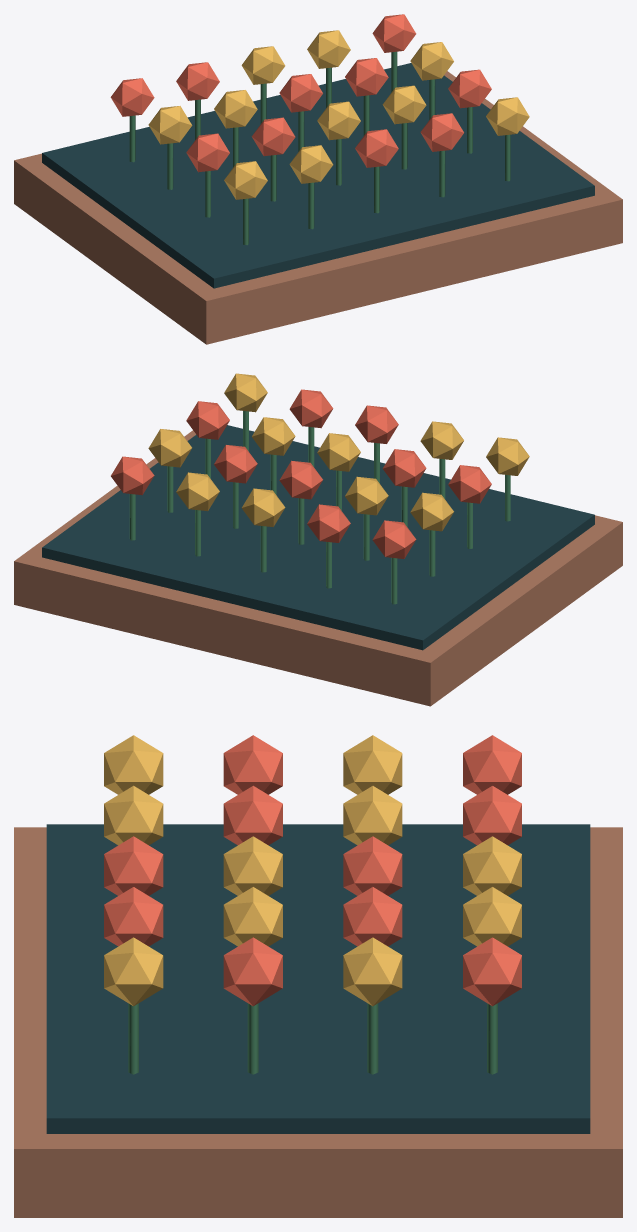
Rendered from deco_flowerbed.glb.
3 views of the same model, one above another, from view 1: azimuth 30°, elevation 25°; view 2: azimuth 150°, elevation 25°; view 3: azimuth 270°, elevation 25° (orthographic). The views are drawn at different scales.
Parts seen in each view (by area): view 1: deco_flowerbed; view 2: deco_flowerbed; view 3: deco_flowerbed.
Part boxes in pixels (left/top/right/bottom): deco_flowerbed: left=14, top=14, right=622, bottom=344; deco_flowerbed: left=14, top=373, right=622, bottom=706; deco_flowerbed: left=14, top=735, right=622, bottom=1217.
Bounding box in the file's own units: 3.5 × 1.08 × 2.8.
